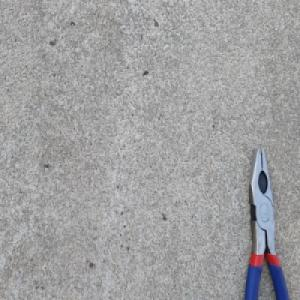Pliers: (243, 144, 290, 300)
